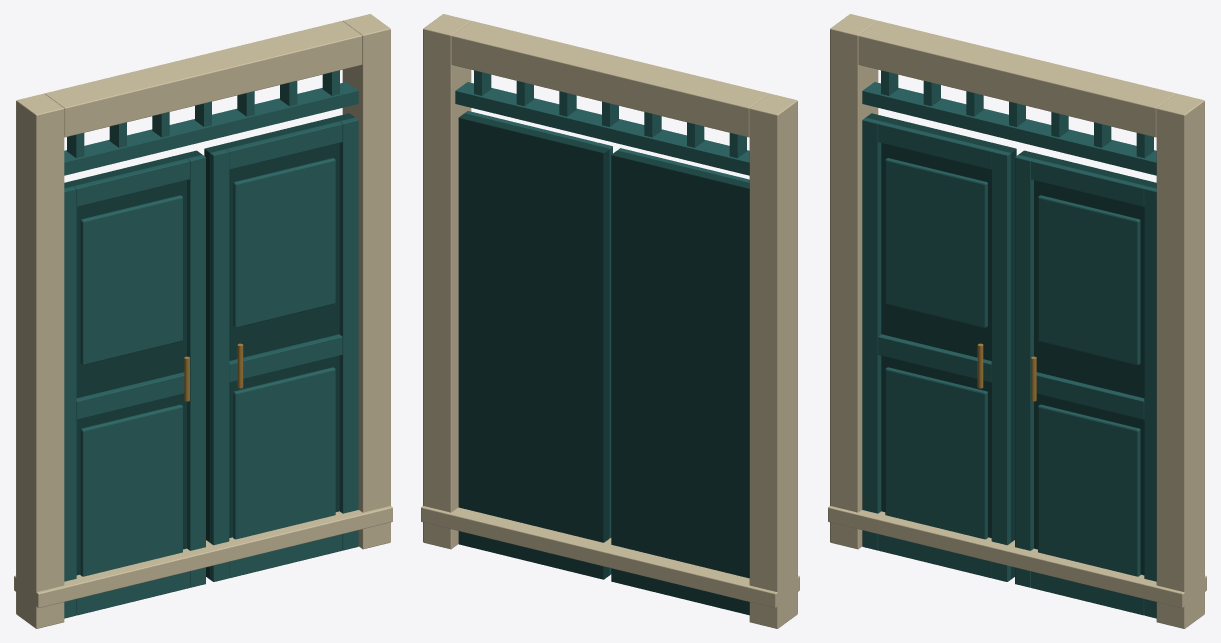
File: source-edit.glb
3 renders of one model, left to right at view 1: azimuth 30°, elevation 25°; view 2: azimuth 150°, elevation 25°; view 3: azimuth 330°, elevation 25°, orthographic.
Parts seen in each view (by area): view 1: DOOR_Jamb, DOOR_Jamb.001, Right_RaisedPanel, Left_RaisedPanel, Left_RaisedPanel.001, Right_RaisedPanel.001, DOOR_Header, Right_Core, Left_Core, Right_Stile.001, Right_Stile, Left_Stile.001 (+9 smaller); view 2: Right_Core, Left_Core, DOOR_Jamb, DOOR_Jamb.001, DOOR_Header, DOOR_Sill, TRANSOM_Rail, Right_Stile.001; view 3: DOOR_Jamb.001, DOOR_Jamb, Left_RaisedPanel, Right_RaisedPanel, Left_RaisedPanel.001, Right_RaisedPanel.001, DOOR_Header, Left_Core, Right_Core, Left_Stile.001, Left_Stile, Right_Stile.001 (+9 smaller).
Boxes of the visible parts, bbox=[...] form: DOOR_Jamb: bbox=[16, 93, 64, 628]; DOOR_Jamb.001: bbox=[342, 14, 390, 549]; Right_RaisedPanel: bbox=[233, 367, 335, 539]; Left_RaisedPanel: bbox=[80, 404, 182, 576]; Left_RaisedPanel.001: bbox=[80, 195, 182, 365]; Right_RaisedPanel.001: bbox=[233, 158, 335, 327]; DOOR_Header: bbox=[44, 21, 362, 137]; Right_Core: bbox=[204, 113, 354, 579]; Left_Core: bbox=[64, 150, 202, 575]; Right_Stile.001: bbox=[210, 149, 229, 581]; Right_Stile: bbox=[339, 117, 358, 550]; Left_Stile.001: bbox=[187, 155, 205, 587]; Right_Core: bbox=[458, 113, 609, 579]; Left_Core: bbox=[611, 150, 749, 615]; DOOR_Jamb: bbox=[749, 93, 797, 628]; DOOR_Jamb.001: bbox=[423, 14, 471, 549]; DOOR_Header: bbox=[451, 21, 769, 137]; DOOR_Sill: bbox=[421, 506, 799, 608]; TRANSOM_Rail: bbox=[455, 82, 749, 175]; Right_Stile.001: bbox=[594, 142, 612, 574]; DOOR_Jamb.001: bbox=[1156, 93, 1204, 628]; DOOR_Jamb: bbox=[830, 14, 878, 549]; Left_RaisedPanel: bbox=[885, 367, 987, 539]; Right_RaisedPanel: bbox=[1038, 404, 1140, 576]; Left_RaisedPanel.001: bbox=[885, 158, 987, 327]; Right_RaisedPanel.001: bbox=[1038, 195, 1140, 365]; DOOR_Header: bbox=[858, 21, 1176, 137]; Left_Core: bbox=[866, 113, 1016, 579]; Right_Core: bbox=[1018, 150, 1156, 575]; Left_Stile.001: bbox=[991, 149, 1010, 581]; Left_Stile: bbox=[862, 117, 881, 550]; Right_Stile.001: bbox=[1015, 155, 1033, 587].
Size of the model in its own units: 2 by 2.77 by 0.24.
